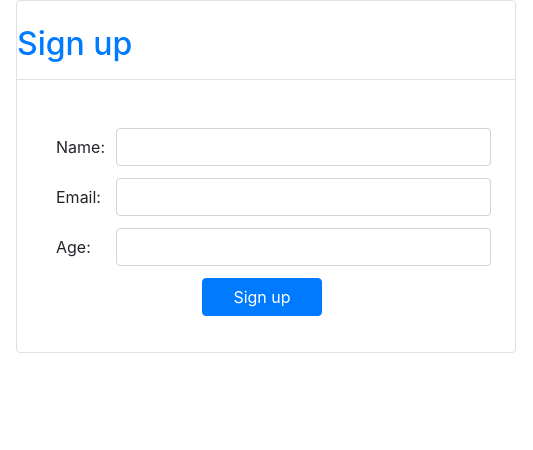
Test form sign up › shows validation errors when form is submitted with invalid data
# Mô tả sự kiện người dùng change giá trị trong các trường input
In the field labelled "Name:": (304, 147) [116,128,491,166], type "cuong"
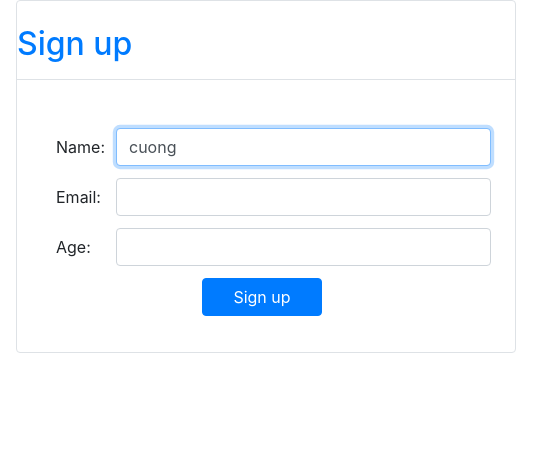
In the field labelled "Email:": (304, 197) [116,178,491,216], type "cuong29329.com"
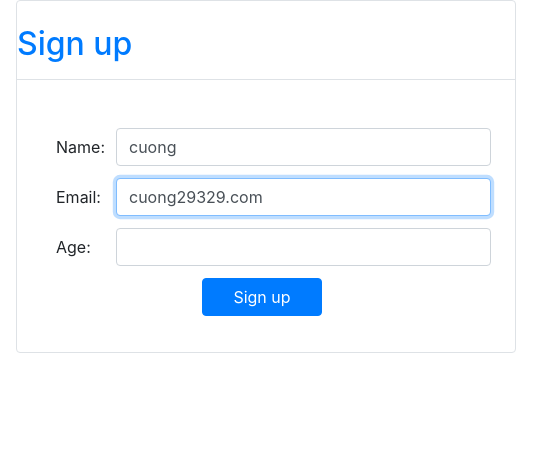
In the field labelled "Age:": (304, 247) [116,228,491,266], type "16"
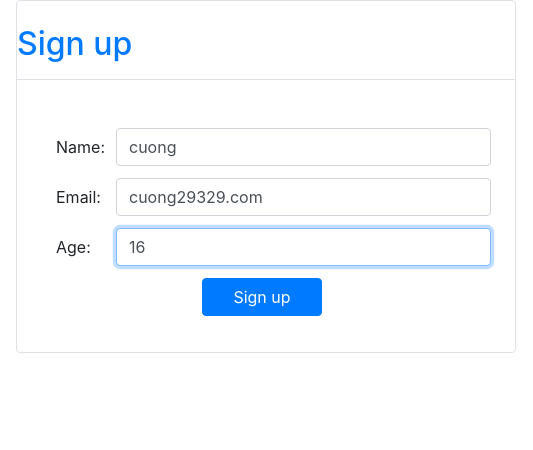
# Mô tả sự kiện người dùng click vào button submit form
Click the button "Sign up": (262, 297) [202,278,322,316]
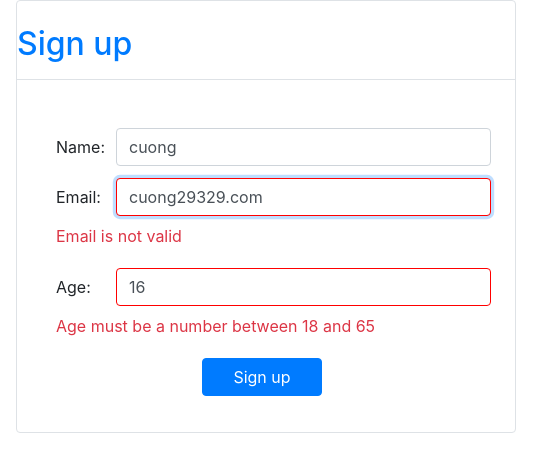
Now the text "Email is not valid" is shown, box [56,226,182,246]
Now the text "Age must be a number between 18 and 65" is shown, box [56,316,375,336]
